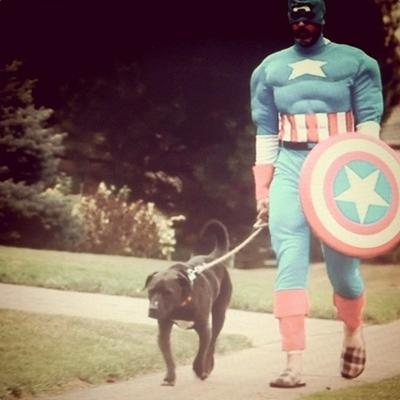person: (251, 1, 386, 387)
